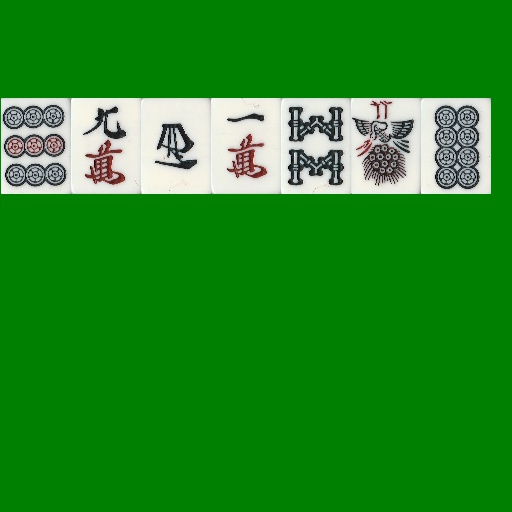1m: (211, 98, 281, 194)
1s: (351, 98, 421, 194)
8p: (421, 98, 491, 194)
8s: (281, 98, 351, 194)
9m: (71, 98, 141, 194)
9p: (1, 98, 71, 194)
west: (141, 98, 211, 194)
